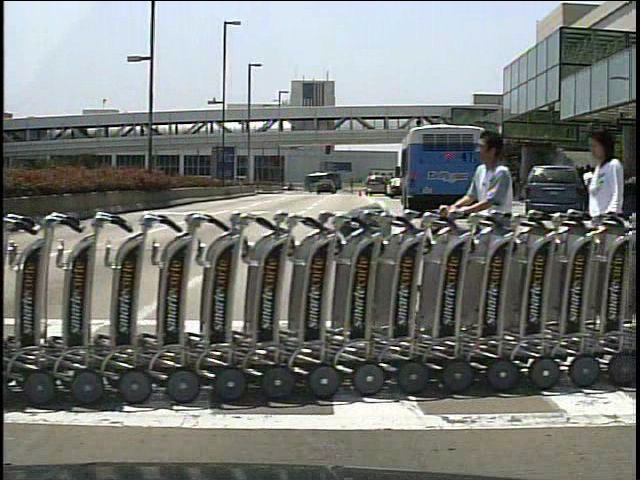person: (440, 125, 532, 365), (571, 116, 625, 331), (581, 164, 602, 215), (577, 163, 596, 218), (348, 176, 356, 196)
